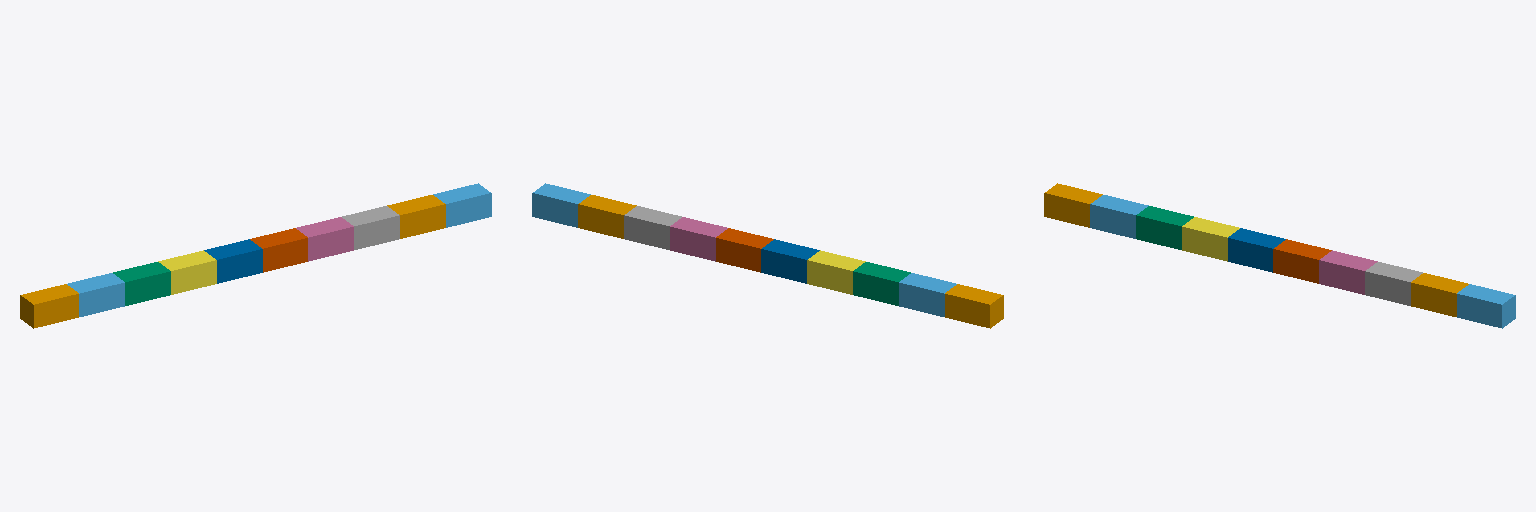
robot.urdf — block18:
<?xml version="1.0" ?>
<robot name="block18">

    <!-- Link1 -->
    <link name="link1">
        <collision>
            <origin rpy="0 0 0" xyz="0 0 0"/>
            <geometry>
                <box size="0.1 0.05 0.05"/>
            </geometry>
        </collision>
        <visual>
        <origin rpy="0 0 0" xyz="0 0 0"/>
            <geometry>
                <box size="0.1 0.05 0.05"/>
            </geometry>
        </visual>
        <inertial>
            <origin rpy="0 0 0" xyz="0.05 0 0"/>
            <mass value="0.05"/>
            <inertia ixx="1e-4" ixy="1e-7" ixz="1e-7" iyy="1e-4" iyz="1e-7" izz="1e-4"/>
        </inertial>
    </link>

    <joint name="Joint1" type="revolute">
        <parent link="link1"/>
        <child link="link2"/>
        <origin rpy="0 0 0" xyz="0.05 0 0"/>
        <axis xyz="0 1 0"/>
        <limit effort="30" lower="-1.57" upper="1.57" velocity="1.571"/>
    </joint>

    <link name="link2">
        <collision>
            <origin rpy="0 0 0" xyz="0.05 0 0"/>
            <geometry>
                <box size="0.1 0.05 0.05"/>
            </geometry>
        </collision>
        <visual>
            <origin rpy="0 0 0" xyz="0.05 0 0"/>
            <geometry>
                <box size="0.1 0.05 0.05"/>
            </geometry>
        </visual>
        <inertial>
            <origin rpy="0 0 0" xyz="0.25 0 0"/>
            <mass value="0.05"/>
            <inertia ixx="1e-4" ixy="1e-7" ixz="1e-7" iyy="1e-4" iyz="1e-7" izz="1e-4"/>
        </inertial>
    </link>

    <joint name="Joint2" type="revolute">
        <parent link="link2"/>
        <child link="link3"/>
        <origin rpy="0 0 0" xyz="0.1 0 0"/>
        <axis xyz="0 1 0"/>
        <limit effort="30" lower="-1.57" upper="1.57" velocity="1.571"/>
    </joint>

    <link name="link3">
        <collision>
            <origin rpy="0 0 0" xyz="0.05 0 0"/>
            <geometry>
                <box size="0.1 0.05 0.05"/>
            </geometry>
        </collision>
        <visual>
            <origin rpy="0 0 0" xyz="0.05 0 0"/>
            <geometry>
                <box size="0.1 0.05 0.05"/>
            </geometry>
        </visual>
        <inertial>
            <origin rpy="0 0 0" xyz="0.05 0 0"/>
            <mass value="0.05"/>
            <inertia ixx="1e-4" ixy="1e-7" ixz="1e-7" iyy="1e-4" iyz="1e-7" izz="1e-4"/>
        </inertial>
    </link>

    <joint name="Joint3" type="revolute">
        <parent link="link3"/>
        <child link="link4"/>
        <origin rpy="0 0 0" xyz="0.1 0 0"/>
        <axis xyz="0 1 0"/>
        <limit effort="30" lower="-1.57" upper="1.57" velocity="1.571"/>
    </joint>

    <link name="link4">
        <collision>
            <origin rpy="0 0 0" xyz="0.05 0 0"/>
            <geometry>
                <box size="0.1 0.05 0.05"/>
            </geometry>
        </collision>
        <visual>
            <origin rpy="0 0 0" xyz="0.05 0 0"/>
            <geometry>
                <box size="0.1 0.05 0.05"/>
            </geometry>
        </visual>
        <inertial>
            <origin rpy="0 0 0" xyz="0.25 0 0"/>
            <mass value="0.05"/>
            <inertia ixx="1e-4" ixy="1e-7" ixz="1e-7" iyy="1e-4" iyz="1e-7" izz="1e-4"/>
        </inertial>
    </link>

    <joint name="Joint4" type="revolute">
        <parent link="link4"/>
        <child link="link5"/>
        <origin rpy="0 0 0" xyz="0.1 0 0"/>
        <axis xyz="0 1 0"/>
        <limit effort="30" lower="-1.57" upper="1.57" velocity="1.571"/>
    </joint>

    <link name="link5">
        <collision>
            <origin rpy="0 0 0" xyz="0.05 0 0"/>
            <geometry>
                <box size="0.1 0.05 0.05"/>
            </geometry>
        </collision>
        <visual>
            <origin rpy="0 0 0" xyz="0.05 0 0"/>
            <geometry>
                <box size="0.1 0.05 0.05"/>
            </geometry>
        </visual>
        <inertial>
            <origin rpy="0 0 0" xyz="0.25 0 0"/>
            <mass value="0.05"/>
            <inertia ixx="1e-4" ixy="1e-7" ixz="1e-7" iyy="1e-4" iyz="1e-7" izz="1e-4"/>
        </inertial>
    </link>

    <joint name="Joint5" type="revolute">
        <parent link="link5"/>
        <child link="link6"/>
        <origin rpy="0 0 0" xyz="0.1 0 0"/>
        <axis xyz="0 1 0"/>
        <limit effort="30" lower="-1.57" upper="1.57" velocity="1.571"/>
    </joint>

    <link name="link6">
        <collision>
            <origin rpy="0 0 0" xyz="0.05 0 0"/>
            <geometry>
                <box size="0.1 0.05 0.05"/>
            </geometry>
        </collision>
        <visual>
            <origin rpy="0 0 0" xyz="0.05 0 0"/>
            <geometry>
                <box size="0.1 0.05 0.05"/>
            </geometry>
        </visual>
        <inertial>
            <origin rpy="0 0 0" xyz="0.25 0 0"/>
            <mass value="0.05"/>
            <inertia ixx="1e-4" ixy="1e-7" ixz="1e-7" iyy="1e-4" iyz="1e-7" izz="1e-4"/>
        </inertial>
    </link>

    <joint name="Joint6" type="revolute">
        <parent link="link6"/>
        <child link="link7"/>
        <origin rpy="0 0 0" xyz="0.1 0 0"/>
        <axis xyz="0 1 0"/>
        <limit effort="30" lower="-1.57" upper="1.57" velocity="1.571"/>
    </joint>

    <link name="link7">
        <collision>
            <origin rpy="0 0 0" xyz="0.05 0 0"/>
            <geometry>
                <box size="0.1 0.05 0.05"/>
            </geometry>
        </collision>
        <visual>
            <origin rpy="0 0 0" xyz="0.05 0 0"/>
            <geometry>
                <box size="0.1 0.05 0.05"/>
            </geometry>
        </visual>
        <inertial>
            <origin rpy="0 0 0" xyz="0.25 0 0"/>
            <mass value="0.05"/>
            <inertia ixx="1e-4" ixy="1e-7" ixz="1e-7" iyy="1e-4" iyz="1e-7" izz="1e-4"/>
        </inertial>
    </link>

    <joint name="Joint7" type="revolute">
        <parent link="link7"/>
        <child link="link8"/>
        <origin rpy="0 0 0" xyz="0.1 0 0"/>
        <axis xyz="0 1 0"/>
        <limit effort="30" lower="-1.57" upper="1.57" velocity="1.571"/>
    </joint>

    <link name="link8">
        <collision>
            <origin rpy="0 0 0" xyz="0.05 0 0"/>
            <geometry>
                <box size="0.1 0.05 0.05"/>
            </geometry>
        </collision>
        <visual>
            <origin rpy="0 0 0" xyz="0.05 0 0"/>
            <geometry>
                <box size="0.1 0.05 0.05"/>
            </geometry>
        </visual>
        <inertial>
            <origin rpy="0 0 0" xyz="0.25 0 0"/>
            <mass value="0.05"/>
            <inertia ixx="1e-4" ixy="1e-7" ixz="1e-7" iyy="1e-4" iyz="1e-7" izz="1e-4"/>
        </inertial>
    </link>

    <joint name="Joint8" type="revolute">
        <parent link="link8"/>
        <child link="link9"/>
        <origin rpy="0 0 0" xyz="0.1 0 0"/>
        <axis xyz="0 1 0"/>
        <limit effort="30" lower="-1.57" upper="1.57" velocity="1.571"/>
    </joint>

    <link name="link9">
        <collision>
            <origin rpy="0 0 0" xyz="0.05 0 0"/>
            <geometry>
                <box size="0.1 0.05 0.05"/>
            </geometry>
        </collision>
        <visual>
            <origin rpy="0 0 0" xyz="0.05 0 0"/>
            <geometry>
                <box size="0.1 0.05 0.05"/>
            </geometry>
        </visual>
        <inertial>
            <origin rpy="0 0 0" xyz="0.25 0 0"/>
            <mass value="0.05"/>
            <inertia ixx="1e-4" ixy="1e-7" ixz="1e-7" iyy="1e-4" iyz="1e-7" izz="1e-4"/>
        </inertial>
    </link>

    <joint name="Joint9" type="revolute">
        <parent link="link9"/>
        <child link="link10"/>
        <origin rpy="0 0 0" xyz="0.1 0 0"/>
        <axis xyz="0 1 0"/>
        <limit effort="30" lower="-1.57" upper="1.57" velocity="1.571"/>
    </joint>

    <link name="link10">
        <collision>
            <origin rpy="0 0 0" xyz="0.05 0 0"/>
            <geometry>
                <box size="0.1 0.05 0.05"/>
            </geometry>
        </collision>
        <visual>
            <origin rpy="0 0 0" xyz="0.05 0 0"/>
            <geometry>
                <box size="0.1 0.05 0.05"/>
            </geometry>
        </visual>
        <inertial>
            <origin rpy="0 0 0" xyz="0.25 0 0"/>
            <mass value="0.05"/>
            <inertia ixx="1e-4" ixy="1e-7" ixz="1e-7" iyy="1e-4" iyz="1e-7" izz="1e-4"/>
        </inertial>
    </link>



    <transmission name="trans1">
        <type>transmission_interface/SimpleTransmission</type>
        <joint name="Joint1">
            <hardwareInterface>hardware_interface/VelocityJointInterface</hardwareInterface>
        </joint>
        <actuator name="moter1">
            <hardwareInterface>VelocityJointInterface</hardwareInterface>
        </actuator>
    </transmission>

    <transmission name="trans2">
        <type>transmission_interface/SimpleTransmission</type>
        <joint name="Joint2">
            <hardwareInterface>hardware_interface/VelocityJointInterface</hardwareInterface>
        </joint>
        <actuator name="moter2">
            <hardwareInterface>VelocityJointInterface</hardwareInterface>
        </actuator>
    </transmission>

    <transmission name="trans3">
        <type>transmission_interface/SimpleTransmission</type>
        <joint name="Joint3">
            <hardwareInterface>hardware_interface/VelocityJointInterface</hardwareInterface>
        </joint>
        <actuator name="moter3">
            <hardwareInterface>VelocityJointInterface</hardwareInterface>
        </actuator>
    </transmission>

    <transmission name="trans4">
        <type>transmission_interface/SimpleTransmission</type>
        <joint name="Joint4">
            <hardwareInterface>hardware_interface/VelocityJointInterface</hardwareInterface>
        </joint>
        <actuator name="moter4">
            <hardwareInterface>VelocityJointInterface</hardwareInterface>
        </actuator>
    </transmission>

    <transmission name="trans5">
        <type>transmission_interface/SimpleTransmission</type>
        <joint name="Joint5">
            <hardwareInterface>hardware_interface/VelocityJointInterface</hardwareInterface>
        </joint>
        <actuator name="moter5">
            <hardwareInterface>VelocityJointInterface</hardwareInterface>
        </actuator>
    </transmission>

    <transmission name="trans6">
        <type>transmission_interface/SimpleTransmission</type>
        <joint name="Joint6">
            <hardwareInterface>hardware_interface/VelocityJointInterface</hardwareInterface>
        </joint>
        <actuator name="moter6">
            <hardwareInterface>VelocityJointInterface</hardwareInterface>
        </actuator>
    </transmission>

    <transmission name="trans7">
        <type>transmission_interface/SimpleTransmission</type>
        <joint name="Joint7">
            <hardwareInterface>hardware_interface/VelocityJointInterface</hardwareInterface>
        </joint>
        <actuator name="moter7">
            <hardwareInterface>VelocityJointInterface</hardwareInterface>
        </actuator>
    </transmission>

    <transmission name="trans8">
        <type>transmission_interface/SimpleTransmission</type>
        <joint name="Joint8">
            <hardwareInterface>hardware_interface/VelocityJointInterface</hardwareInterface>
        </joint>
        <actuator name="moter8">
            <hardwareInterface>VelocityJointInterface</hardwareInterface>
        </actuator>
    </transmission>

    <transmission name="trans9">
        <type>transmission_interface/SimpleTransmission</type>
        <joint name="Joint9">
            <hardwareInterface>hardware_interface/VelocityJointInterface</hardwareInterface>
        </joint>
        <actuator name="moter9">
            <hardwareInterface>VelocityJointInterface</hardwareInterface>
        </actuator>
    </transmission>


    <gazebo>
        <plugin name="gazebo_ros_control" filename="libgazebo_ros_control.so">
            <robotNamespace>block18</robotNamespace>
            <robotSimType>gazebo_ros_control/DefaultRobotHWSim</robotSimType>
            <legacyModeNS>true</legacyModeNS> 
        </plugin>
    </gazebo>

    <gazebo reference="link1">
      <selfCollide>true</selfCollide>
      <gravity>1</gravity>
      <mu1>10.0</mu1>
      <mu2>10.0</mu2>
      <maxVel>1.0</maxVel>
      <maxVel>1.0</maxVel>
      <minDepth>0.002</minDepth>
    </gazebo>

    <gazebo reference="link2">
      <selfCollide>true</selfCollide>
      <gravity>1</gravity>
      <mu1>10.0</mu1>
      <mu2>10.0</mu2>
      <maxVel>1.0</maxVel>
      <minDepth>0.002</minDepth>
    </gazebo>

    <gazebo reference="link3">
      <selfCollide>true</selfCollide>
      <gravity>1</gravity>
      <mu1>10.0</mu1>
      <mu2>10.0</mu2>
      <maxVel>1.0</maxVel>
      <minDepth>0.002</minDepth>
    </gazebo>

    <gazebo reference="link4">
      <selfCollide>true</selfCollide>
      <gravity>1</gravity>
      <mu1>10.0</mu1>
      <mu2>10.0</mu2>
      <maxVel>1.0</maxVel>
      <minDepth>0.002</minDepth>
    </gazebo>

    <gazebo reference="link5">
      <selfCollide>true</selfCollide>
      <gravity>1</gravity>
      <mu1>10.0</mu1>
      <mu2>10.0</mu2>
      <maxVel>1.0</maxVel>
      <minDepth>0.002</minDepth>
    </gazebo>

    <gazebo reference="link6">
      <selfCollide>true</selfCollide>
      <gravity>1</gravity>
      <mu1>10.0</mu1>
      <mu2>10.0</mu2>
      <maxVel>1.0</maxVel>
      <minDepth>0.002</minDepth>
    </gazebo>

    <gazebo reference="link7">
      <selfCollide>true</selfCollide>
      <gravity>1</gravity>
      <mu1>10.0</mu1>
      <mu2>10.0</mu2>
      <maxVel>1.0</maxVel>
      <minDepth>0.002</minDepth>
    </gazebo>

    <gazebo reference="link8">
      <selfCollide>true</selfCollide>
      <gravity>1</gravity>
      <mu1>10.0</mu1>
      <mu2>10.0</mu2>
      <maxVel>1.0</maxVel>
      <minDepth>0.002</minDepth>
    </gazebo>

    <gazebo reference="link9">
      <selfCollide>true</selfCollide>
      <gravity>1</gravity>
      <mu1>10.0</mu1>
      <mu2>10.0</mu2>
      <maxVel>1.0</maxVel>
      <minDepth>0.002</minDepth>
    </gazebo>

    <gazebo reference="link10">
      <selfCollide>true</selfCollide>
      <gravity>1</gravity>
      <mu1>10.0</mu1>
      <mu2>10.0</mu2>
      <maxVel>1.0</maxVel>
      <minDepth>0.002</minDepth>
    </gazebo>

</robot>

--- Facts derived from the render (not from the file) ---
3 views of the same robot in one strip: view 1: azimuth 30°, elevation 25°; view 2: azimuth 150°, elevation 25°; view 3: azimuth 330°, elevation 25° (orthographic).
Model block18 with 10 links and 9 joints (9 revolute), rooted at link1, posed every joint at zero.
Visible links, largest first — view 1: link1, link2, link4, link5, link7, link3, link8, link9, link10, link6; view 2: link1, link2, link4, link5, link7, link3, link8, link9, link10, link6; view 3: link10, link4, link6, link7, link9, link1, link2, link3, link8, link5.
Link boxes in pixels (left/top/right/bottom): link1: left=20, top=284, right=78, bottom=328; link2: left=67, top=273, right=124, bottom=316; link4: left=158, top=250, right=216, bottom=294; link5: left=204, top=239, right=262, bottom=283; link7: left=296, top=217, right=353, bottom=261; link3: left=113, top=262, right=170, bottom=305; link8: left=342, top=206, right=399, bottom=249; link9: left=387, top=195, right=445, bottom=238; link10: left=433, top=183, right=491, bottom=227; link6: left=250, top=228, right=307, bottom=272; link1: left=945, top=284, right=1003, bottom=328; link2: left=899, top=273, right=956, bottom=316; link4: left=807, top=250, right=865, bottom=294; link5: left=761, top=239, right=819, bottom=283; link7: left=670, top=217, right=727, bottom=261; link3: left=853, top=262, right=910, bottom=305; link8: left=624, top=206, right=681, bottom=249; link9: left=578, top=195, right=636, bottom=238; link10: left=532, top=183, right=590, bottom=227; link6: left=716, top=228, right=773, bottom=272; link10: left=1457, top=284, right=1515, bottom=328; link4: left=1182, top=217, right=1239, bottom=261; link6: left=1273, top=239, right=1331, bottom=283; link7: left=1319, top=250, right=1377, bottom=294; link9: left=1411, top=273, right=1468, bottom=316; link1: left=1044, top=183, right=1102, bottom=227; link2: left=1090, top=195, right=1148, bottom=238; link3: left=1136, top=206, right=1193, bottom=249; link8: left=1365, top=262, right=1422, bottom=305; link5: left=1228, top=228, right=1285, bottom=272.
Bounding box of the posed robot: 1 × 0.05 × 0.05 m (x, y, z).
Geometry: primitives only (box / cylinder / sphere), no mesh files.